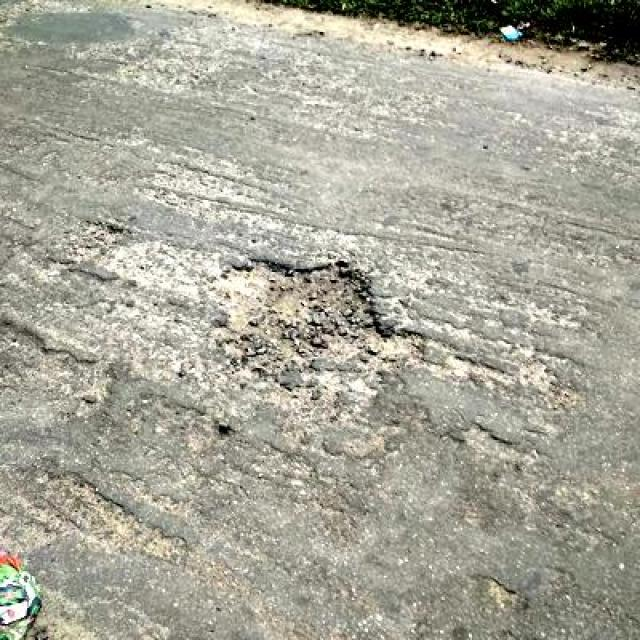pothole: (206, 250, 420, 372)
